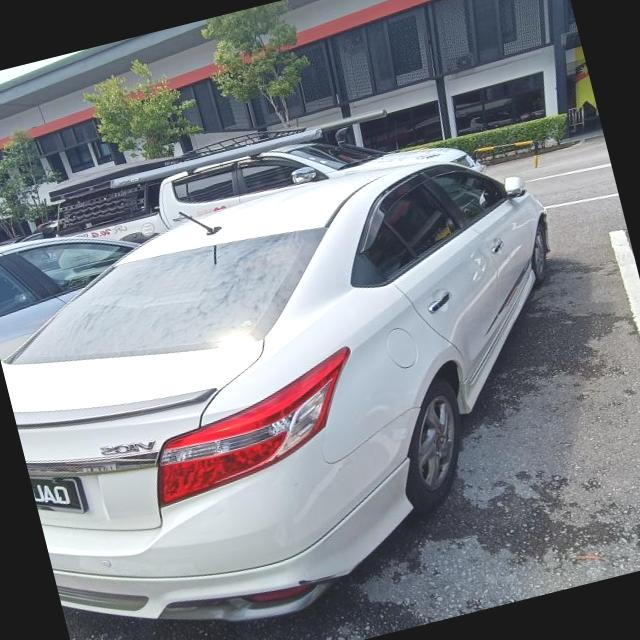ToyotaVios: (0, 121, 627, 640)
